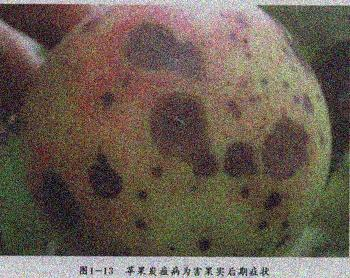rotten apple: (1, 16, 332, 253)
